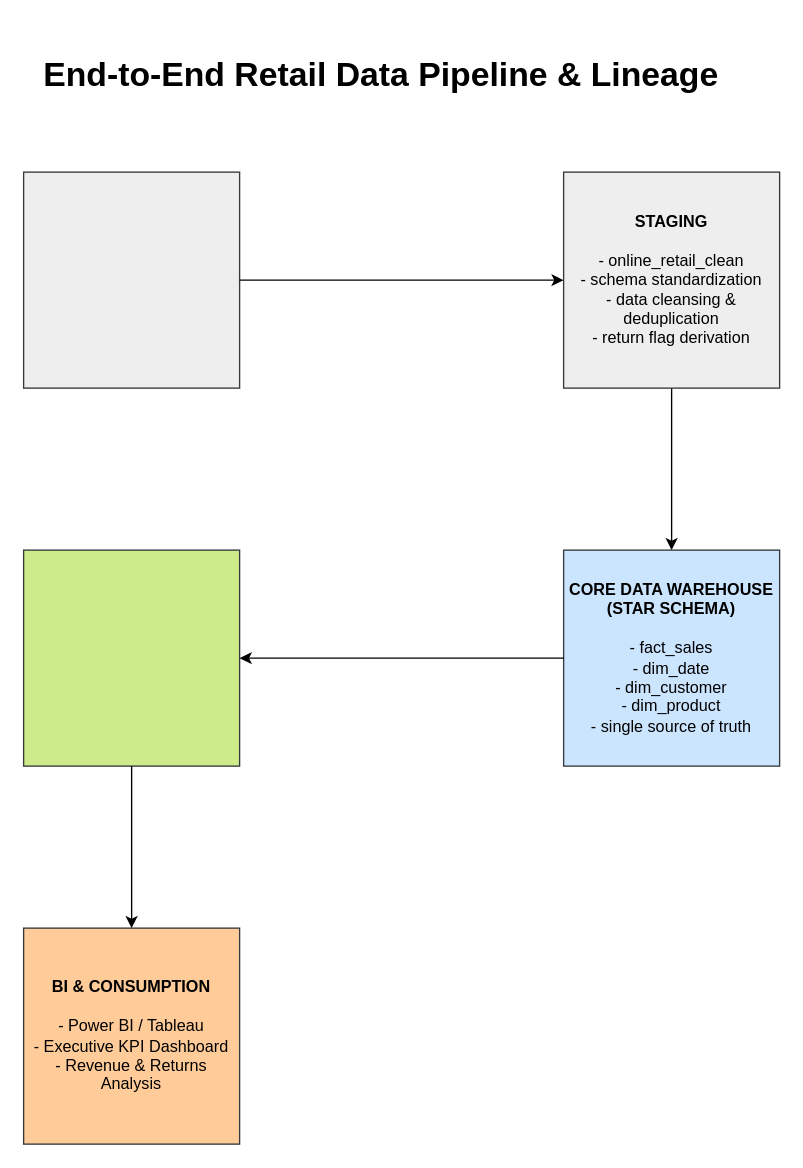
Image size: 803x1168. Some labels were removed from this diagram. The shapes that lost their labels are listed below. From the top down, each one's centre as x and y in pixels, then its label:
At point (131, 279): "RAW - online_retail_raw".
At point (131, 657): "ANALYTICS MARTS - customer_segments (planned KPI marts)".
